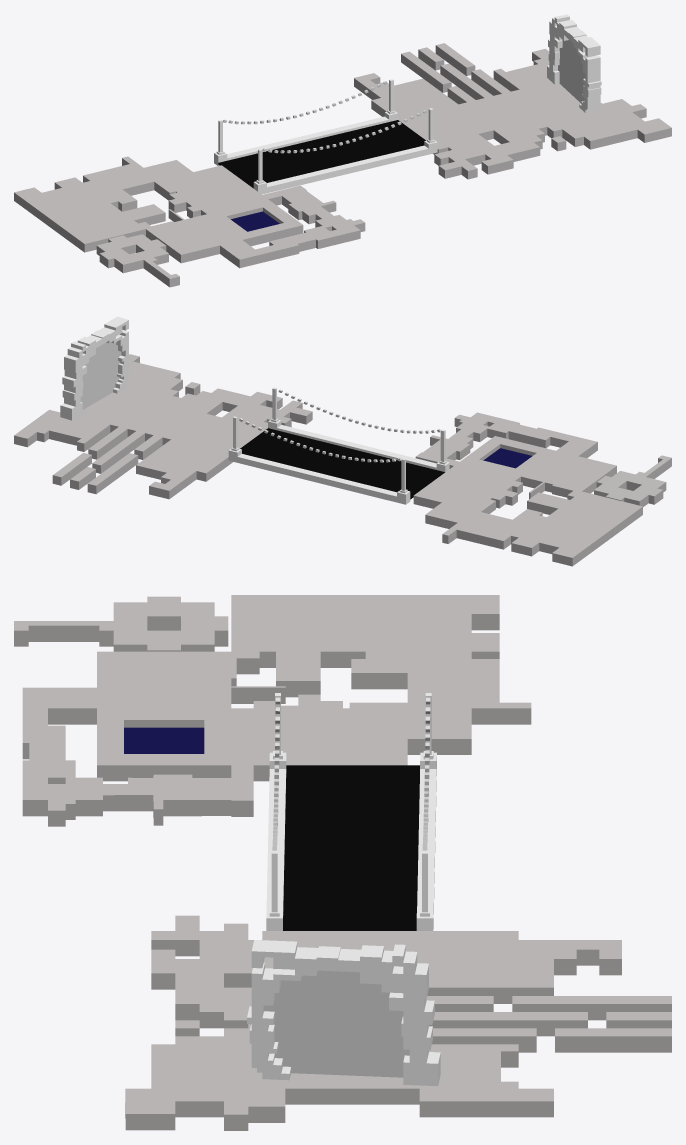
The model's file is Dice.fbx.
3 renders of one model, top to bottom at view 1: azimuth 30°, elevation 25°; view 2: azimuth 150°, elevation 25°; view 3: azimuth 270°, elevation 25°, orthographic. The views are drawn at different scales.
Parts seen in each view (by area): view 1: Dice Boss Floor, Plank Bridge, Bridge, ArkV2, Dice Boss Floor.005, Veil, Dice Boss Floor.003, Dice Boss Floor.001, Fishing spot; view 2: Dice Boss Floor, Plank Bridge, Bridge, ArkV2, Dice Boss Floor.005, Veil, Dice Boss Floor.003, Dice Boss Floor.001, Fishing spot, Lanterns Left Side, Lanterns Right Side, Dice Boss Floor.002; view 3: Dice Boss Floor, Plank Bridge, ArkV2, Veil, Dice Boss Floor.005, Bridge, Dice Boss Floor.001, Dice Boss Floor.003, Fishing spot, Dice Boss Floor.002.
Part boxes in pixels (bbox=[...]): Dice Boss Floor: bbox=[14, 48, 671, 268]; Plank Bridge: bbox=[218, 120, 425, 188]; Bridge: bbox=[214, 79, 437, 194]; ArkV2: bbox=[547, 14, 601, 112]; Dice Boss Floor.005: bbox=[96, 234, 179, 287]; Veil: bbox=[558, 40, 585, 103]; Dice Boss Floor.003: bbox=[401, 51, 451, 92]; Dice Boss Floor.001: bbox=[435, 43, 475, 75]; Fishing spot: bbox=[231, 211, 279, 231]; Dice Boss Floor: bbox=[14, 354, 642, 566]; Plank Bridge: bbox=[240, 428, 444, 499]; Bridge: bbox=[228, 387, 449, 504]; ArkV2: bbox=[60, 316, 130, 420]; Dice Boss Floor.005: bbox=[594, 455, 671, 506]; Veil: bbox=[80, 342, 121, 409]; Dice Boss Floor.003: bbox=[87, 453, 138, 494]; Dice Boss Floor.001: bbox=[52, 453, 91, 485]; Fishing spot: bbox=[483, 448, 532, 468]; Lanterns Left Side: bbox=[239, 418, 401, 462]; Lanterns Right Side: bbox=[278, 389, 440, 433]; Dice Boss Floor.002: bbox=[70, 467, 95, 489]; Dice Boss Floor: bbox=[22, 595, 621, 1130]; Plank Bridge: bbox=[283, 765, 419, 930]; ArkV2: bbox=[247, 940, 440, 1086]; Veil: bbox=[264, 970, 409, 1077]; Dice Boss Floor.005: bbox=[14, 596, 228, 651]; Bridge: bbox=[266, 693, 436, 930]; Dice Boss Floor.001: bbox=[555, 1028, 671, 1052]; Dice Boss Floor.003: bbox=[512, 996, 671, 1020]; Fishing spot: bbox=[124, 727, 204, 753]; Dice Boss Floor.002: bbox=[606, 1012, 671, 1028].
Bounding box in the file's own units: 11376 × 1479 × 6087.
